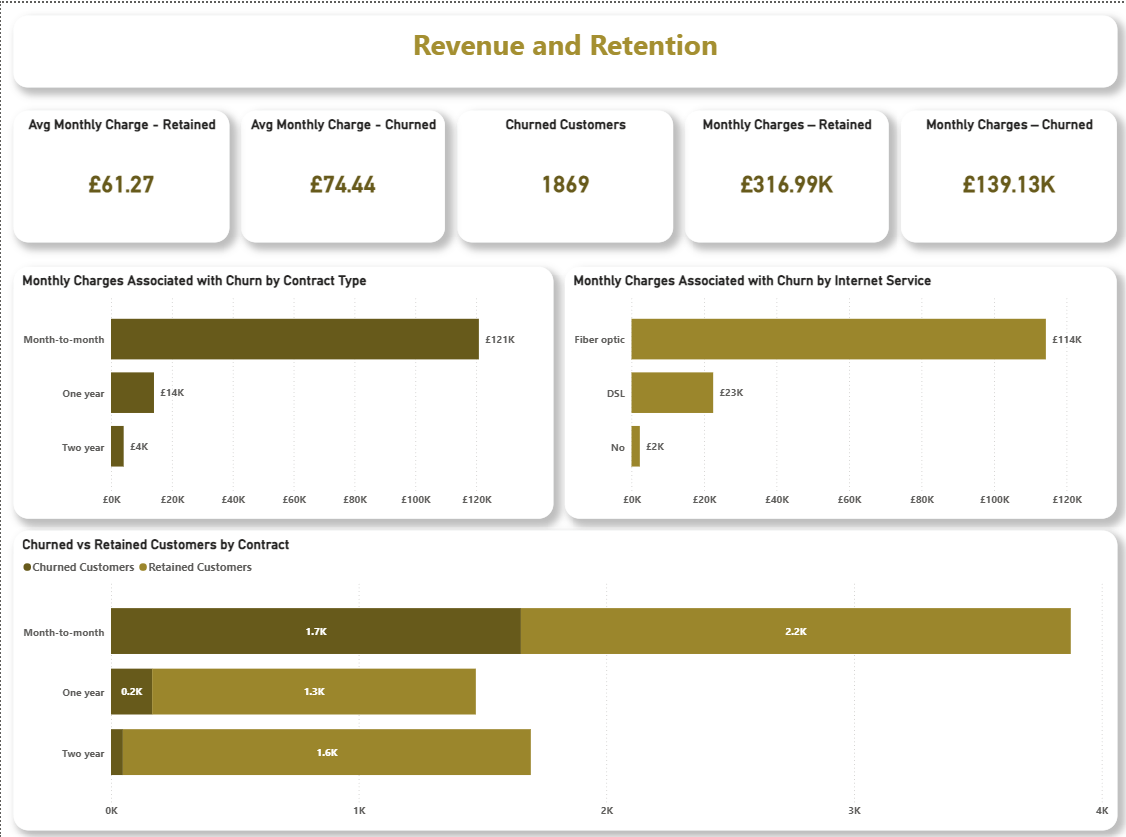

The dashboard page shown, as its layout file describes it:
{"tool":"powerbi","page":{"name":"Revenue and Retention","canvas":[1500,1115],"ordinal":3},"visuals":[{"type":"clusteredBarChart","title":"Monthly Charges Associated with Churn by Contract Type","fields":{"Category":["vw_telecom_churn_bi.contract"],"Y":["Measures (2).Churned Monthly Revenue"]},"box":[16,352,720,336],"z":0},{"type":"clusteredBarChart","title":"Monthly Charges Associated with Churn by Internet Service","fields":{"Y":["Measures (2).Churned Monthly Revenue"],"Category":["vw_telecom_churn_bi.internet_service"]},"box":[752,352,736,336],"z":1},{"type":"card","title":"Monthly Charges – Retained","fields":{"Values":["Measures (2).Retained Monthly Revenue"]},"box":[912,144,272,176],"z":2},{"type":"card","title":"Monthly Charges – Churned","fields":{"Values":["Measures (2).Churned Monthly Revenue"]},"box":[1200,144,288,176],"z":3},{"type":"card","title":"Churned Customers","fields":{"Values":["Measures (2).Churned Customers"]},"box":[608,144,288,176],"z":4},{"type":"card","title":"Avg Monthly Charge - Churned","fields":{"Values":["Measures (2).Avg Monthly Charge - Churned"]},"box":[320,144,272,176],"z":5},{"type":"card","title":"Avg Monthly Charge - Retained","fields":{"Values":["Measures (2).Avg Monthly Charge - Retained"]},"box":[16,144,288,176],"z":6},{"type":"textbox","box":[16,16,1472,96],"z":7},{"type":"barChart","title":"Churned vs Retained Customers by Contract","fields":{"Category":["vw_telecom_churn_bi.contract"],"Y":["Measures (2).Churned Customers","Measures (2).Retained Customers"]},"box":[16,704,1472,400],"z":8}]}

Visuals, with their boxes in screenshot pixels (x1, y1, x2, y2), scaled from the page's 1500x1115 canvas onto the 1126x837 screenshot:
"Monthly Charges Associated with Churn by Contract Type" clusteredBarChart: box=[12, 264, 552, 516]
"Monthly Charges Associated with Churn by Internet Service" clusteredBarChart: box=[565, 264, 1117, 516]
"Monthly Charges – Retained" card: box=[685, 108, 889, 240]
"Monthly Charges – Churned" card: box=[901, 108, 1117, 240]
"Churned Customers" card: box=[456, 108, 673, 240]
"Avg Monthly Charge - Churned" card: box=[240, 108, 444, 240]
"Avg Monthly Charge - Retained" card: box=[12, 108, 228, 240]
textbox: box=[12, 12, 1117, 84]
"Churned vs Retained Customers by Contract" barChart: box=[12, 528, 1117, 829]
